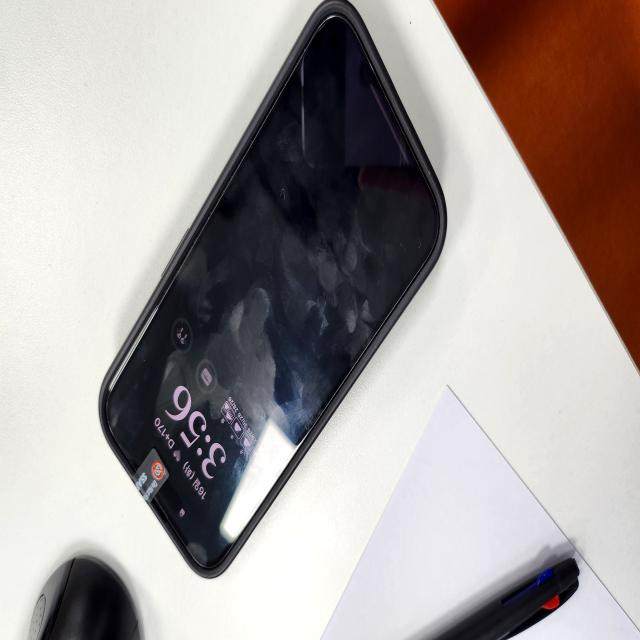phone: (100, 0, 446, 579)
sticker: (132, 448, 169, 507)
